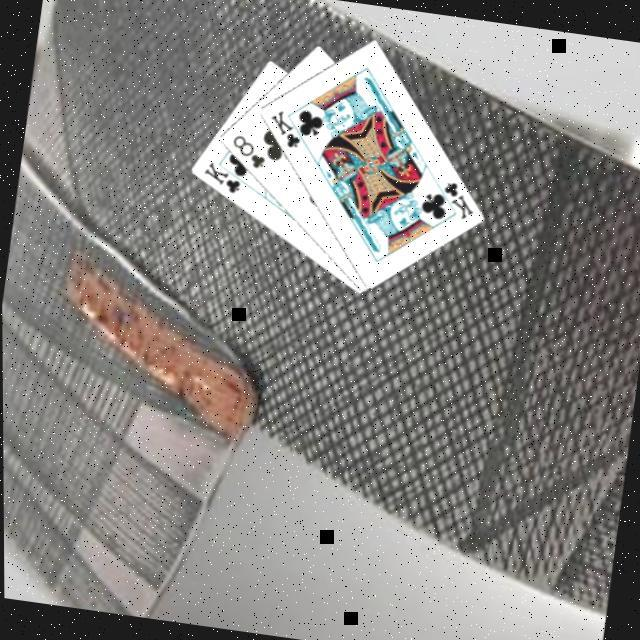8C: (224, 128, 269, 171)
KC: (195, 154, 252, 197), (262, 104, 313, 152), (427, 174, 478, 222)
